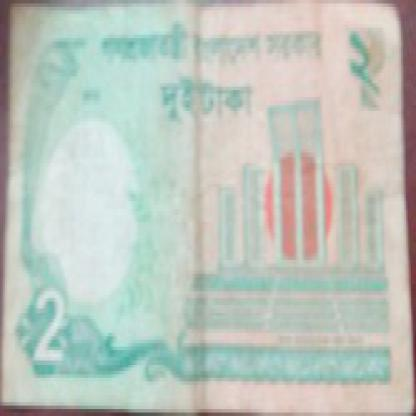two taka: (27, 284, 78, 382)
